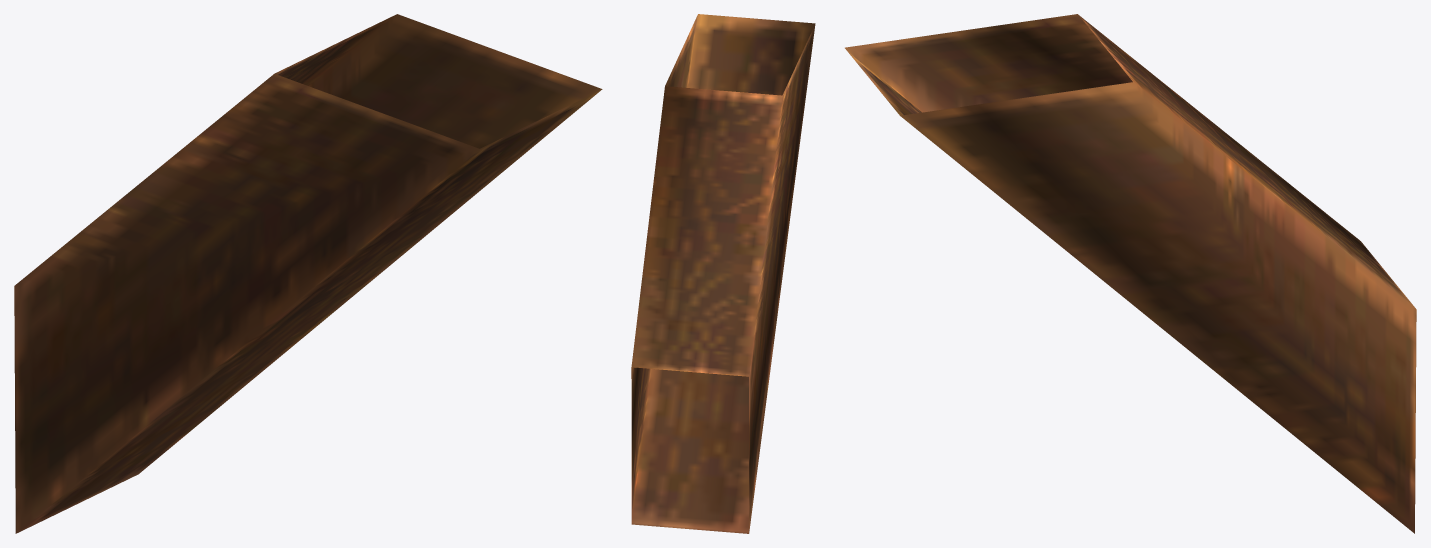
Rendered from SWORDLIGHT20_JAILBRACE83.fbx.
The picture shows the model from 3 angles, left to right: view 1: azimuth 30°, elevation 25°; view 2: azimuth 150°, elevation 25°; view 3: azimuth 270°, elevation 25°; orthographic projection. The views are drawn at different scales.
Parts seen in each view (by area): view 1: SWORDLIGHT20_JAILBRACE83; view 2: SWORDLIGHT20_JAILBRACE83; view 3: SWORDLIGHT20_JAILBRACE83.
Part boxes in pixels (left/top/right/bottom): SWORDLIGHT20_JAILBRACE83: left=14, top=14, right=602, bottom=533; SWORDLIGHT20_JAILBRACE83: left=631, top=14, right=815, bottom=533; SWORDLIGHT20_JAILBRACE83: left=845, top=14, right=1416, bottom=533.
Size of the model in its own units: 4866 by 7647 by 7963.
Materials: 1 (1 with a texture image).
